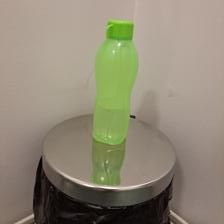bottle: (86, 18, 140, 145)
